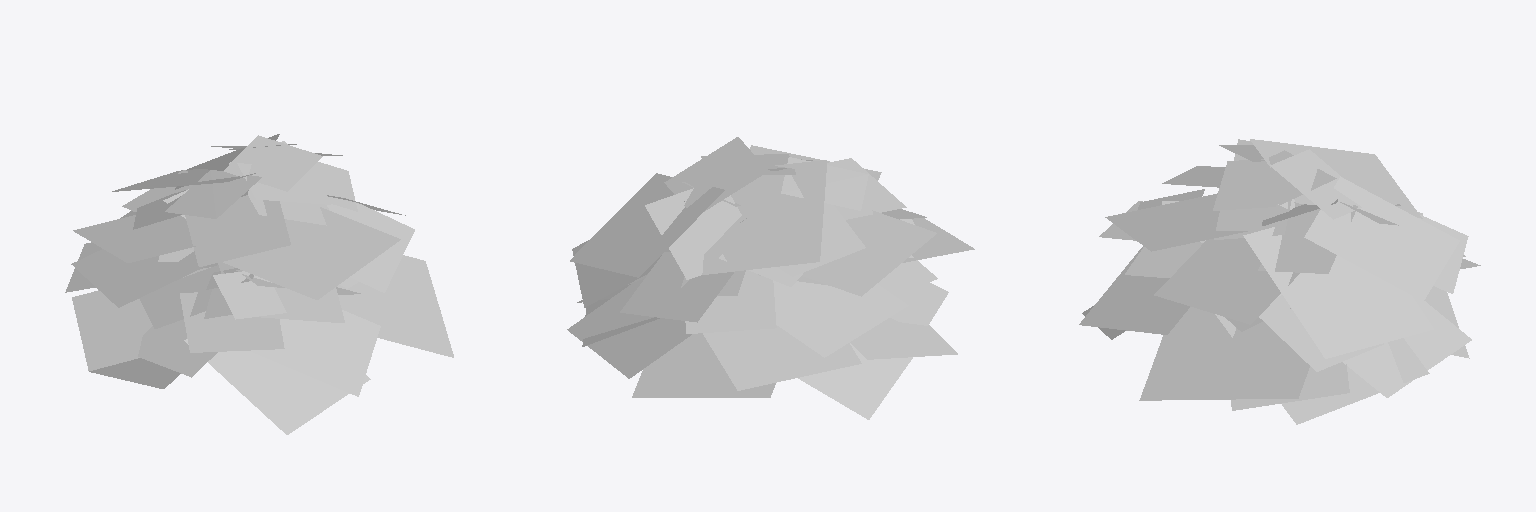
The model's file is oakleaves1.obj.
3 renders of one model, left to right at view 1: azimuth 30°, elevation 25°; view 2: azimuth 150°, elevation 25°; view 3: azimuth 270°, elevation 25°, orthographic.
Size of the model in its own units: 10.98 by 6.3 by 10.71.